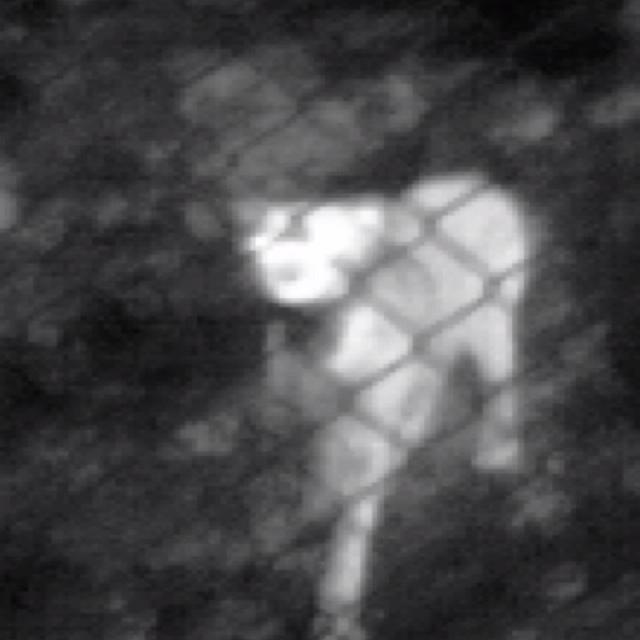cheetah: (235, 173, 525, 639)
